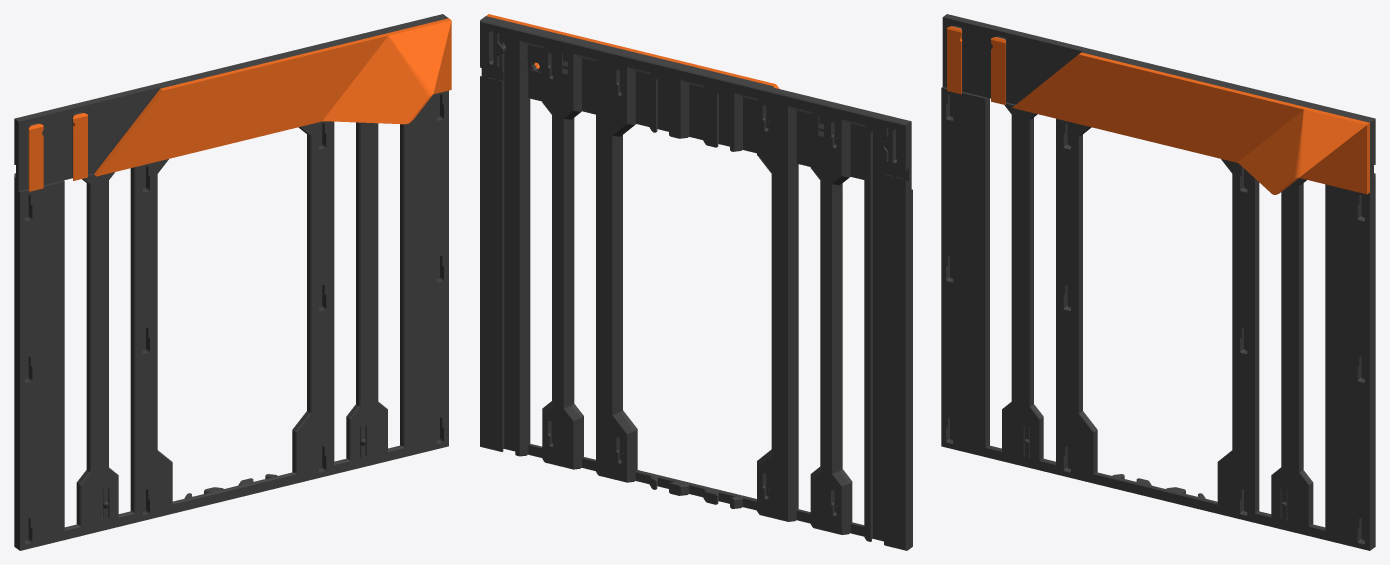
The model's file is Faceplate_EdgeLabel_2W-3H.lib.glb.
3 views of the same model, side by side, from view 1: azimuth 30°, elevation 25°; view 2: azimuth 150°, elevation 25°; view 3: azimuth 330°, elevation 25° (orthographic).
Parts seen in each view (by area): view 1: Faceplate_EdgeLabel_2W-3H; view 2: Faceplate_EdgeLabel_2W-3H; view 3: Faceplate_EdgeLabel_2W-3H.
Boxes of the visible parts, left/top/right/bottom form: Faceplate_EdgeLabel_2W-3H: left=14, top=14, right=451, bottom=550; Faceplate_EdgeLabel_2W-3H: left=480, top=14, right=912, bottom=550; Faceplate_EdgeLabel_2W-3H: left=941, top=14, right=1375, bottom=550.
Bounding box in the file's own units: 175 × 167 × 24.1.
